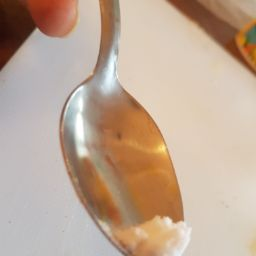Baking powder: (32, 89, 246, 256)
